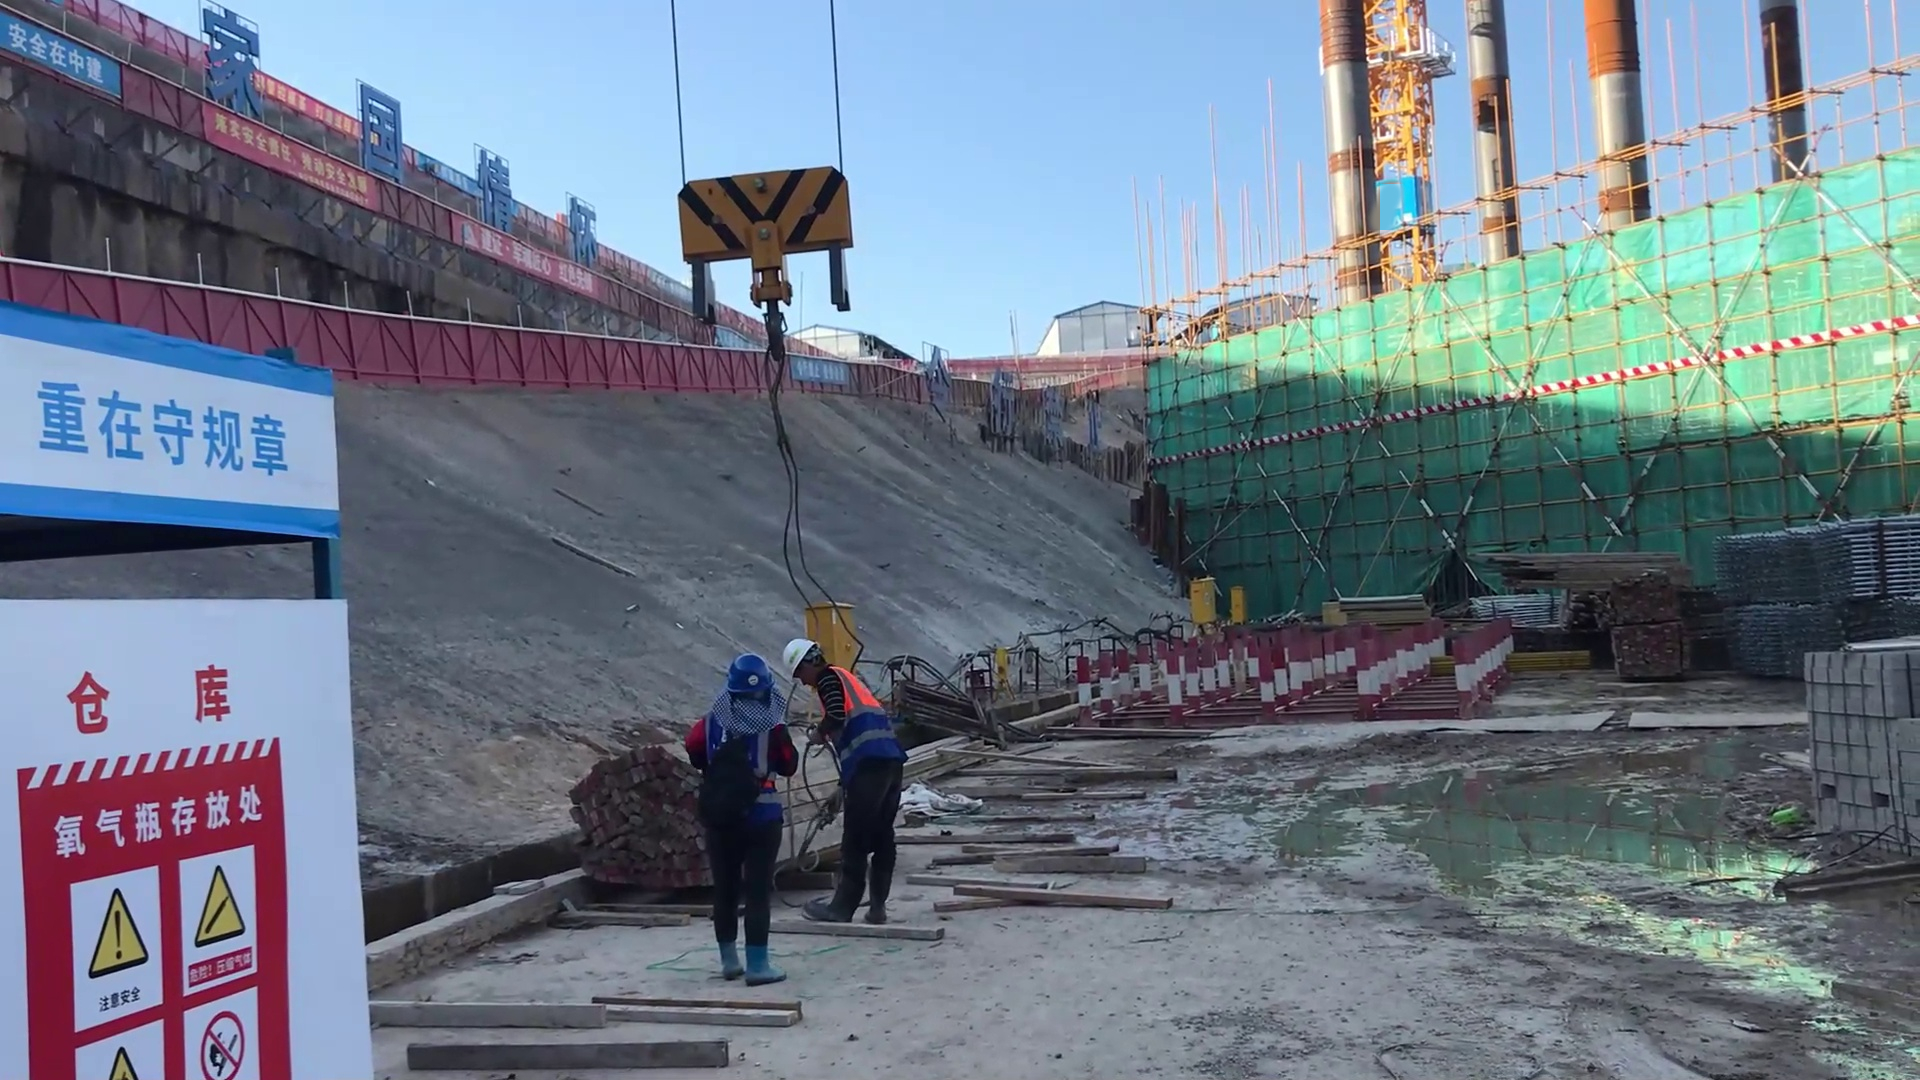brick: (1799, 627, 1920, 873)
ebox: (807, 592, 869, 656), (1188, 575, 1215, 621), (1230, 581, 1245, 624)
fence: (310, 304, 629, 394), (625, 344, 781, 398)
helmet: (712, 650, 771, 711)
hook: (677, 156, 852, 319)
person: (775, 632, 914, 930), (692, 644, 797, 986)
scaffold: (1707, 494, 1920, 631)
slogan: (17, 753, 348, 1080), (1, 362, 312, 524), (196, 82, 393, 219), (7, 1, 169, 108)
vest: (813, 662, 874, 730)
wood: (548, 742, 696, 916), (1467, 530, 1666, 600)
